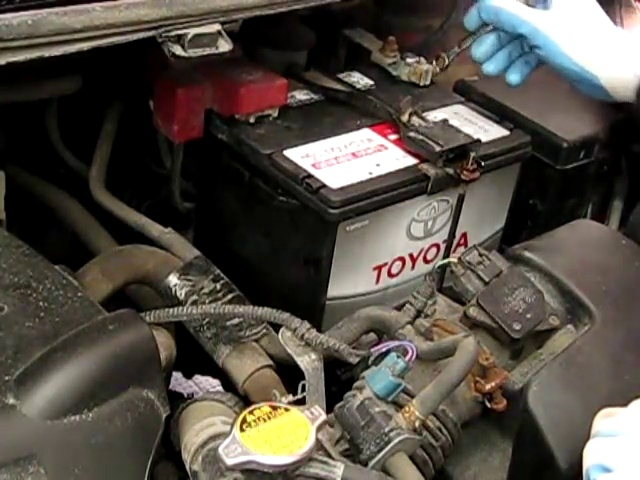battery: (169, 57, 538, 202)
neg_connected: (357, 15, 436, 92)
neg_touched: (366, 13, 548, 107)
pos_connected: (166, 57, 295, 145)
